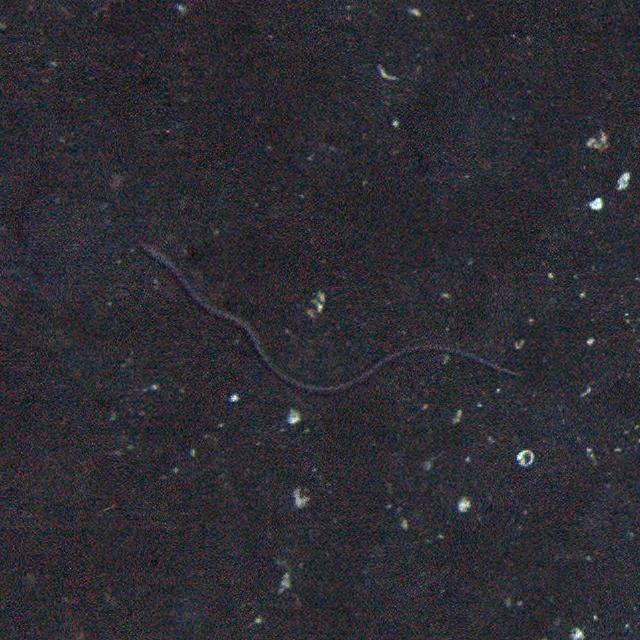eel: (134, 234, 526, 400)
